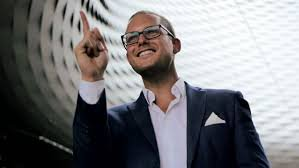noMask: (119, 5, 192, 79)
